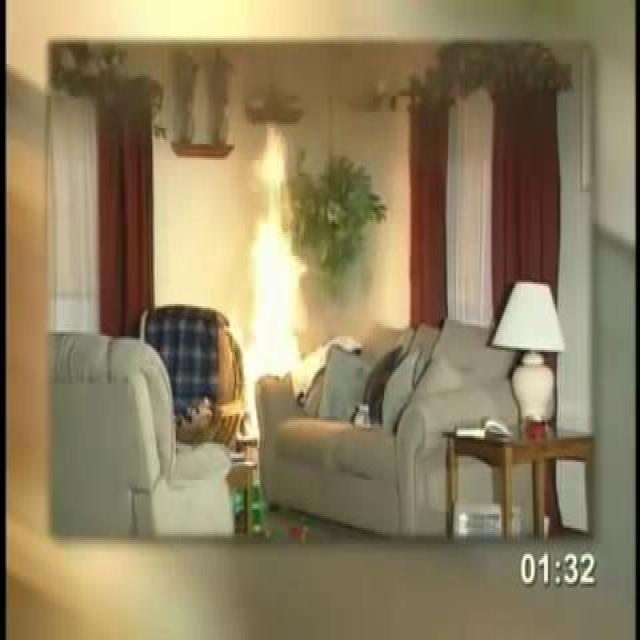fire: (229, 122, 318, 398)
